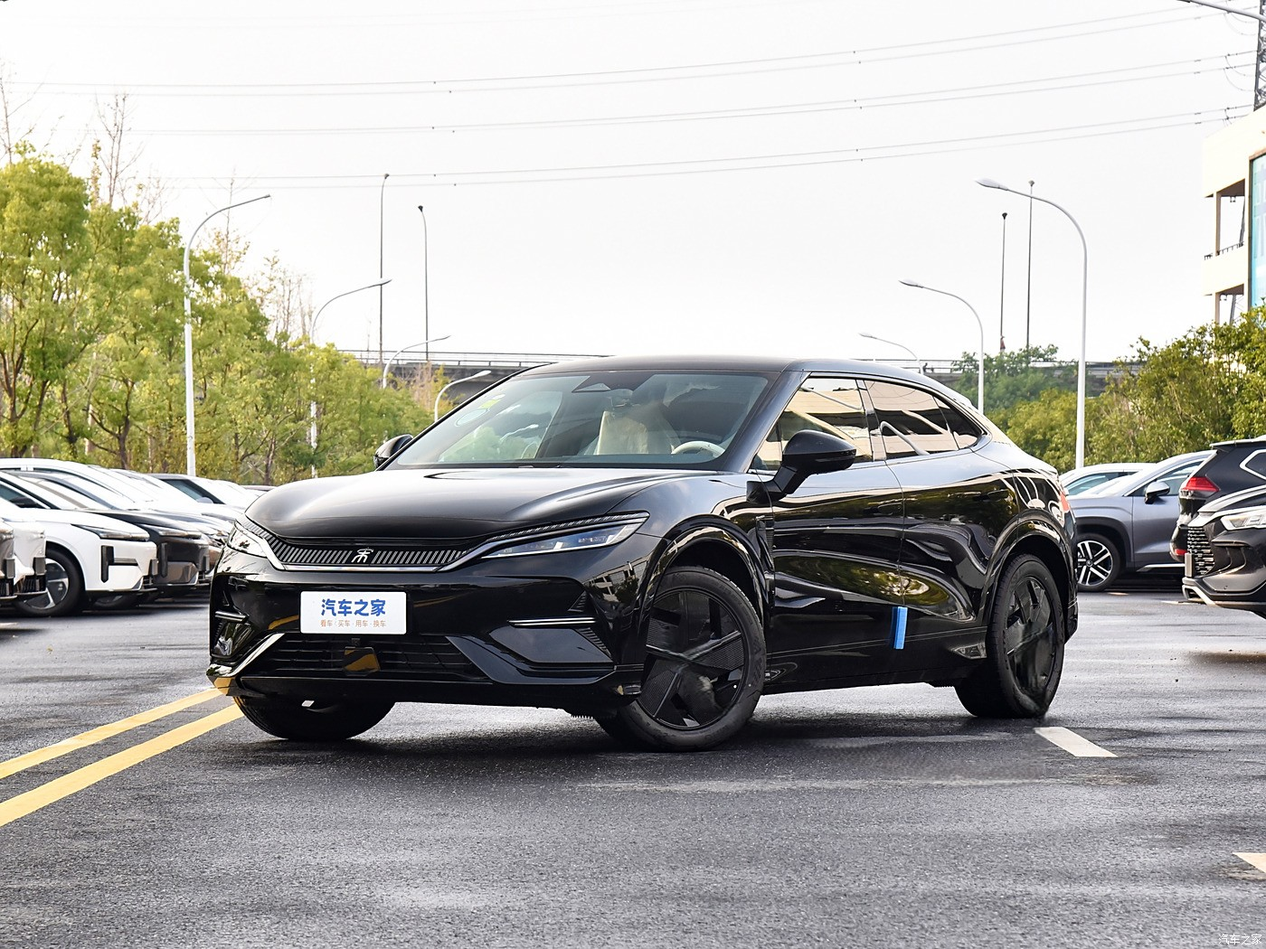BYD Song: (352, 547, 373, 562)
